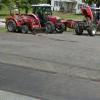Tractor: (4, 6, 100, 52)
